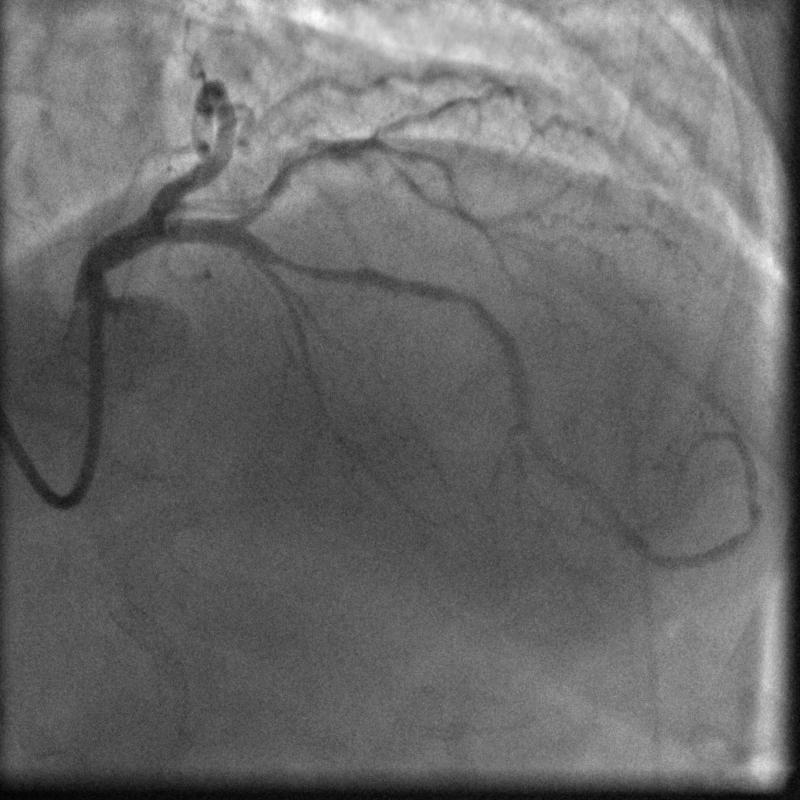Stenosis: (273, 242, 329, 287)
